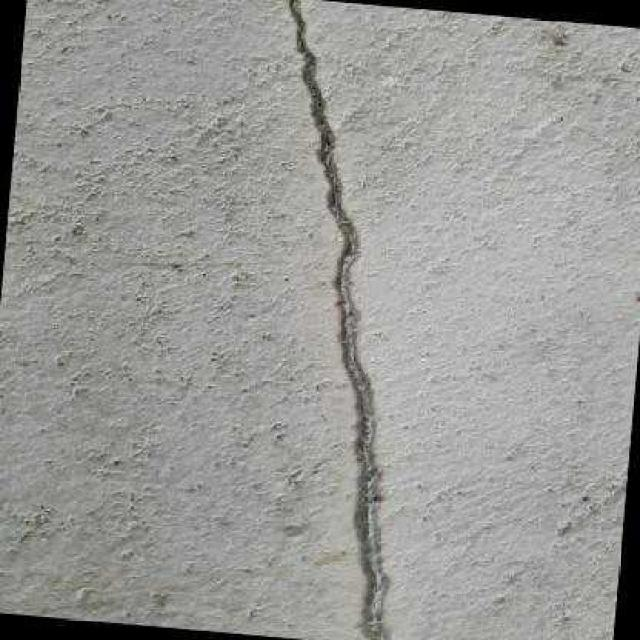D00: (290, 0, 381, 640)
